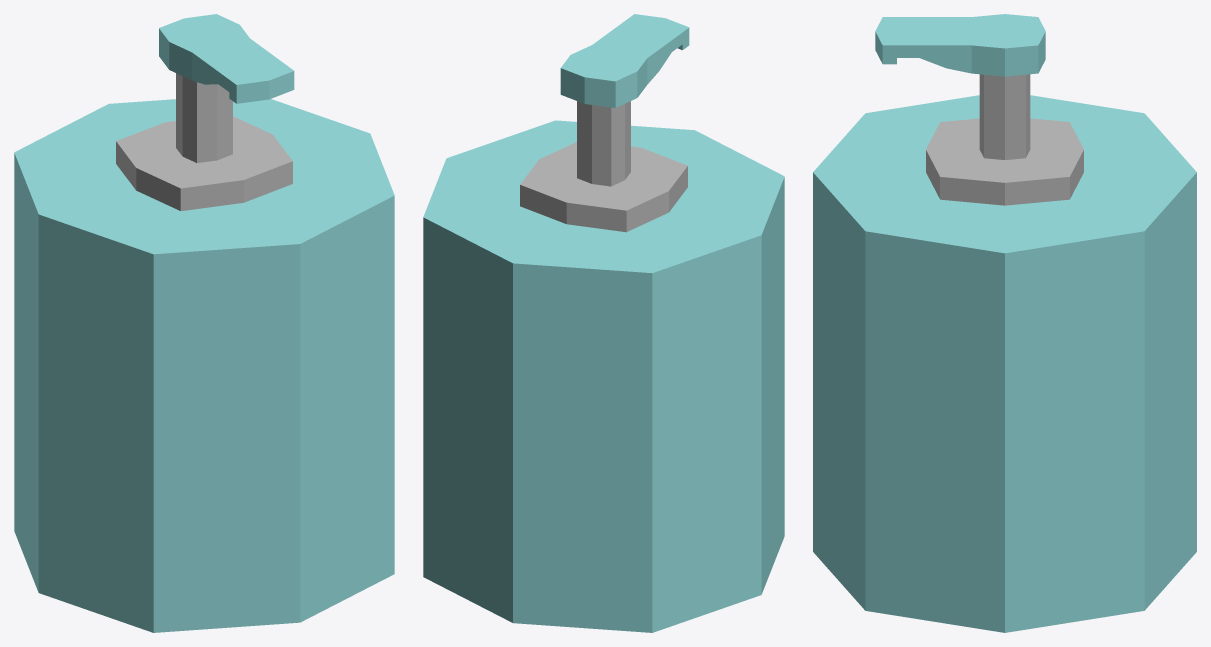
Rendered from soap dispenser.fbx.
3 views of the same model, side by side, from view 1: azimuth 30°, elevation 25°; view 2: azimuth 150°, elevation 25°; view 3: azimuth 270°, elevation 25° (orthographic). The views are drawn at different scales.
Visible parts, largest first — view 1: Cube; view 2: Cube; view 3: Cube.
Boxes of the visible parts, x1,y1,x2,y2 form: Cube: [14, 14, 394, 632]; Cube: [423, 14, 784, 632]; Cube: [813, 14, 1196, 632].
Bounding box in the file's own units: 0.5757 × 0.5757 × 0.8613.
